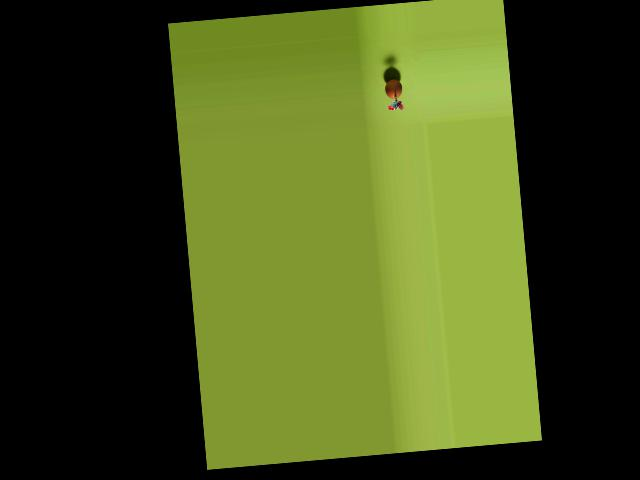egg: (384, 78, 403, 99)
